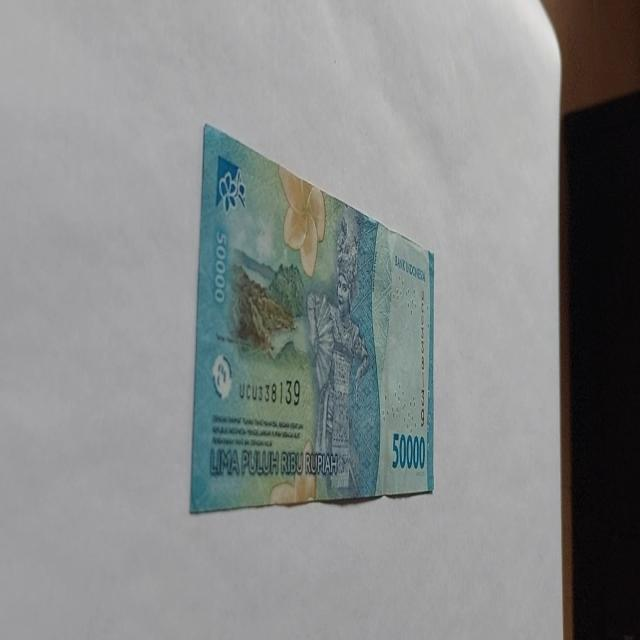lima puluh ribu rupiah: (188, 121, 436, 514)
